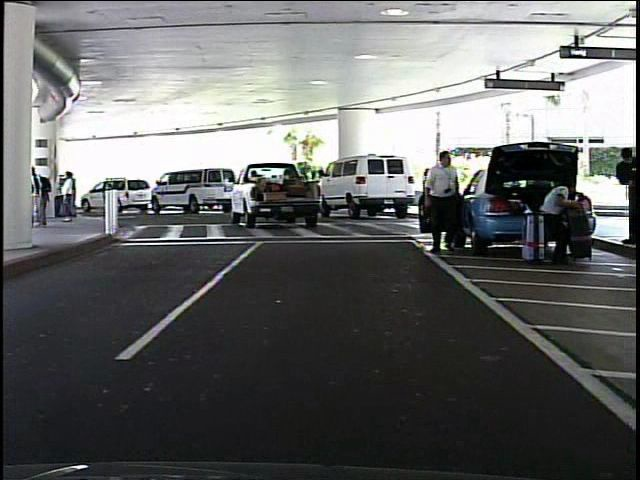person: (421, 147, 467, 256), (534, 171, 581, 264), (610, 143, 640, 248)
